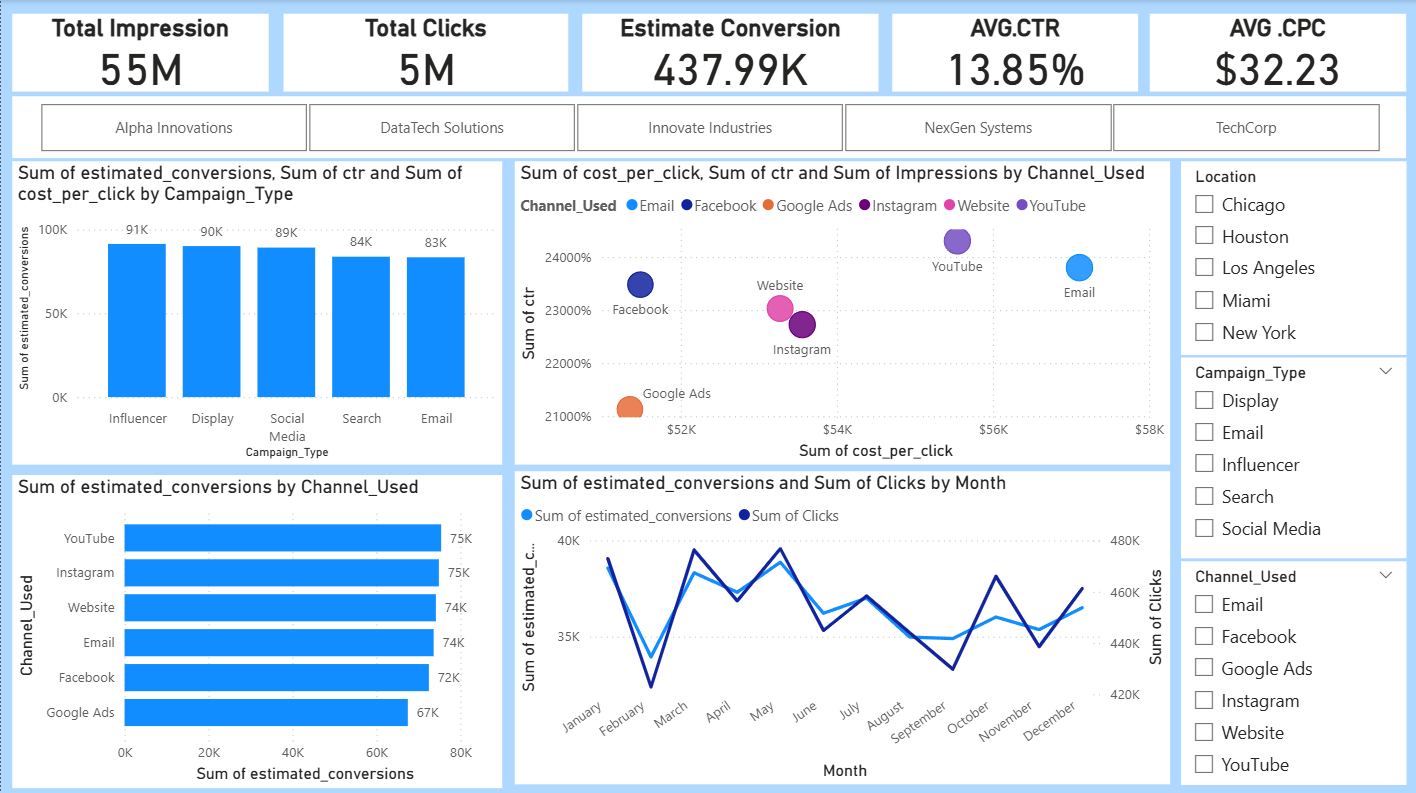

The page's visual inventory and layout, read from the dashboard file:
{"tool":"powerbi","page":{"name":"Page 1","canvas":[1280,720],"ordinal":0},"visuals":[{"type":"card","title":"Total Impression","fields":{"Values":["Sum(marketing_analysis marketing_campaign_clean.Impressions)"]},"box":[10.7,12.2,231.7,70.1],"z":0},{"type":"card","title":"Total Clicks","fields":{"Values":["Sum(marketing_analysis marketing_campaign_clean.Clicks)"]},"box":[256.1,12.2,257.6,70.1],"z":1000},{"type":"card","title":"Estimate Conversion","fields":{"Values":["Sum(marketing_analysis marketing_campaign_clean.estimated_conversions)"]},"box":[525.8,12.2,268.3,70.1],"z":2000},{"type":"card","title":"AVG.CTR","fields":{"Values":["Avg(marketing_analysis marketing_campaign_clean.ctr)","select"]},"box":[806.3,12.2,222.5,70.1],"z":3000},{"type":"card","title":"AVG .CPC","fields":{"Values":["Avg(marketing_analysis marketing_campaign_clean.cost_per_click)"]},"box":[1039.5,12.2,231.7,70.1],"z":4000},{"type":"clusteredColumnChart","fields":{"Category":["marketing_analysis marketing_campaign_clean.Campaign_Type"],"Y":["Sum(marketing_analysis marketing_campaign_clean.estimated_conversions)"]},"box":[10.2,146.1,443.3,274.3],"z":5000},{"type":"clusteredBarChart","fields":{"Category":["marketing_analysis marketing_campaign_clean.Channel_Used"],"Y":["Sum(marketing_analysis marketing_campaign_clean.estimated_conversions)"]},"box":[10.7,429.8,443.5,283.5],"z":6000},{"type":"scatterChart","fields":{"X":["Sum(marketing_analysis marketing_campaign_clean.cost_per_click)"],"Y":["Sum(marketing_analysis marketing_campaign_clean.ctr)"],"Size":["Sum(marketing_analysis marketing_campaign_clean.Impressions)"],"Series":["marketing_analysis marketing_campaign_clean.Channel_Used"]},"box":[464.9,146.3,592.9,274.4],"z":7000},{"type":"lineChart","fields":{"Category":["marketing_analysis marketing_campaign_clean.campaign_date.Variation.Date Hierarchy.Month"],"Y":["Sum(marketing_analysis marketing_campaign_clean.estimated_conversions)"],"Y2":["Sum(marketing_analysis marketing_campaign_clean.Clicks)"]},"box":[464.9,426.8,592.9,283.5],"z":8000},{"type":"slicer","fields":{"Values":["marketing_analysis marketing_campaign_clean.Company"]},"box":[10.7,86.9,1260.5,56.4],"z":9000},{"type":"slicer","fields":{"Values":["marketing_analysis marketing_campaign_clean.Location"]},"box":[1066.9,146.3,204.2,175.3],"z":10000},{"type":"slicer","fields":{"Values":["marketing_analysis marketing_campaign_clean.Campaign_Type"]},"box":[1066.9,323.1,204.2,181.4],"z":11000},{"type":"slicer","fields":{"Values":["marketing_analysis marketing_campaign_clean.Channel_Used"]},"box":[1066.9,507.6,204.2,202.7],"z":11001}]}

Visuals, with their boxes in screenshot pixels (x1, y1, x2, y2), scaled from the page's 1280x720 canvas onto the 1416x793 screenshot:
"Total Impression" card: {"x1": 12, "y1": 13, "x2": 268, "y2": 91}
"Total Clicks" card: {"x1": 283, "y1": 13, "x2": 568, "y2": 91}
"Estimate Conversion" card: {"x1": 582, "y1": 13, "x2": 878, "y2": 91}
"AVG.CTR" card: {"x1": 892, "y1": 13, "x2": 1138, "y2": 91}
"AVG .CPC" card: {"x1": 1150, "y1": 13, "x2": 1406, "y2": 91}
clusteredColumnChart - marketing_analysis marketing_campaign_clean.Campaign_Type x Sum(marketing_analysis marketing_campaign_clean.estimated_conversions): {"x1": 11, "y1": 161, "x2": 502, "y2": 463}
clusteredBarChart - marketing_analysis marketing_campaign_clean.Channel_Used x Sum(marketing_analysis marketing_campaign_clean.estimated_conversions): {"x1": 12, "y1": 473, "x2": 502, "y2": 786}
scatterChart - Sum(marketing_analysis marketing_campaign_clean.cost_per_click) x Sum(marketing_analysis marketing_campaign_clean.ctr): {"x1": 514, "y1": 161, "x2": 1170, "y2": 463}
lineChart - marketing_analysis marketing_campaign_clean.campaign_date.Variation.Date Hierarchy.Month x Sum(marketing_analysis marketing_campaign_clean.estimated_conversions): {"x1": 514, "y1": 470, "x2": 1170, "y2": 782}
slicer - marketing_analysis marketing_campaign_clean.Company: {"x1": 12, "y1": 96, "x2": 1406, "y2": 158}
slicer - marketing_analysis marketing_campaign_clean.Location: {"x1": 1180, "y1": 161, "x2": 1406, "y2": 354}
slicer - marketing_analysis marketing_campaign_clean.Campaign_Type: {"x1": 1180, "y1": 356, "x2": 1406, "y2": 556}
slicer - marketing_analysis marketing_campaign_clean.Channel_Used: {"x1": 1180, "y1": 559, "x2": 1406, "y2": 782}
